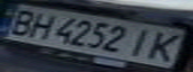2: (103, 21, 133, 55), (69, 17, 93, 50)
4: (45, 15, 78, 45)
5: (87, 19, 112, 52)
B: (0, 7, 42, 36)
H: (21, 10, 60, 40)
I: (124, 26, 163, 60)
K: (142, 29, 190, 63)
